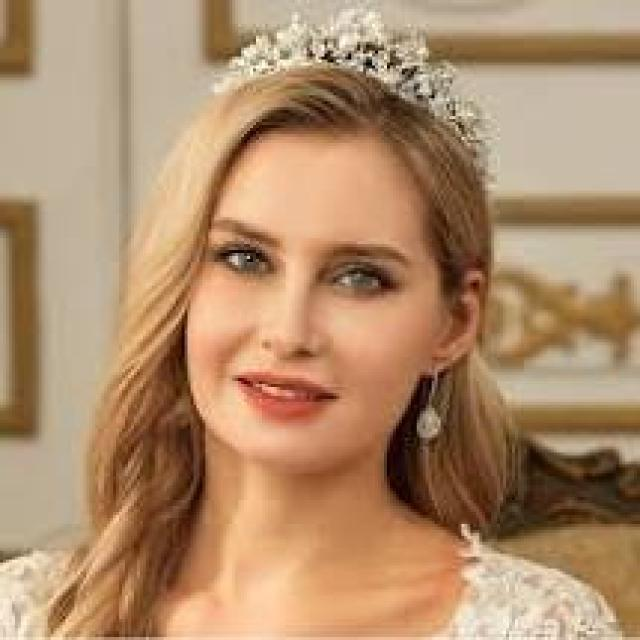Earring: (413, 341, 455, 454)
